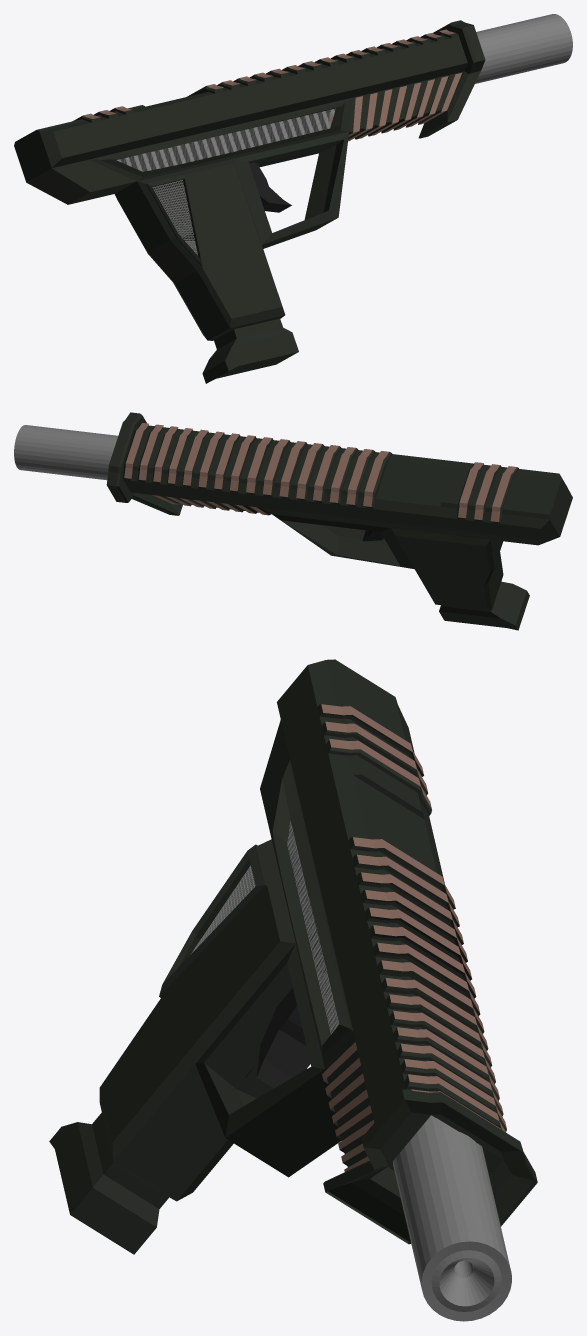
The model's file is Gun_Model.fbx.
The picture shows the model from 3 angles, top to bottom: view 1: azimuth 30°, elevation 25°; view 2: azimuth 150°, elevation 25°; view 3: azimuth 270°, elevation 25°; orthographic projection. The views are drawn at different scales.
Parts seen in each view (by area): view 1: Cube; view 2: Cube; view 3: Cube.
Boxes of the visible parts, x1,y1,x2,y2 form: Cube: (14,14,572,383); Cube: (14,412,572,630); Cube: (49,659,537,1321).
Bounding box in the file's own units: 1898 × 771 × 784.
